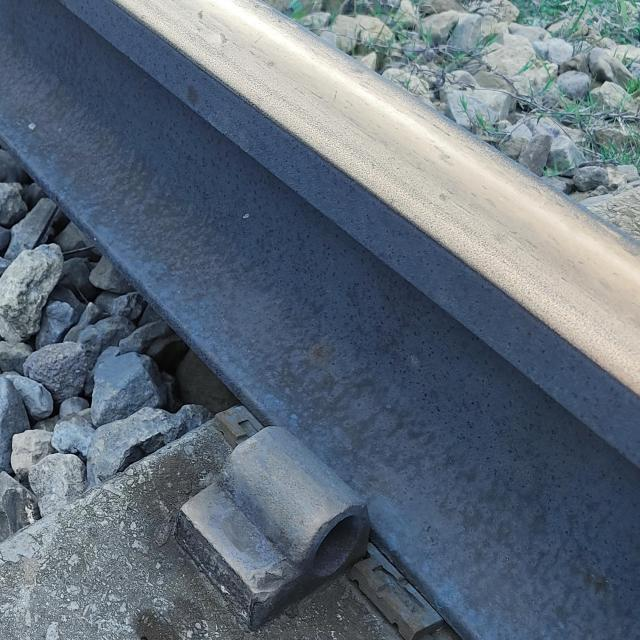Missing Fastener: (144, 420, 415, 625)
